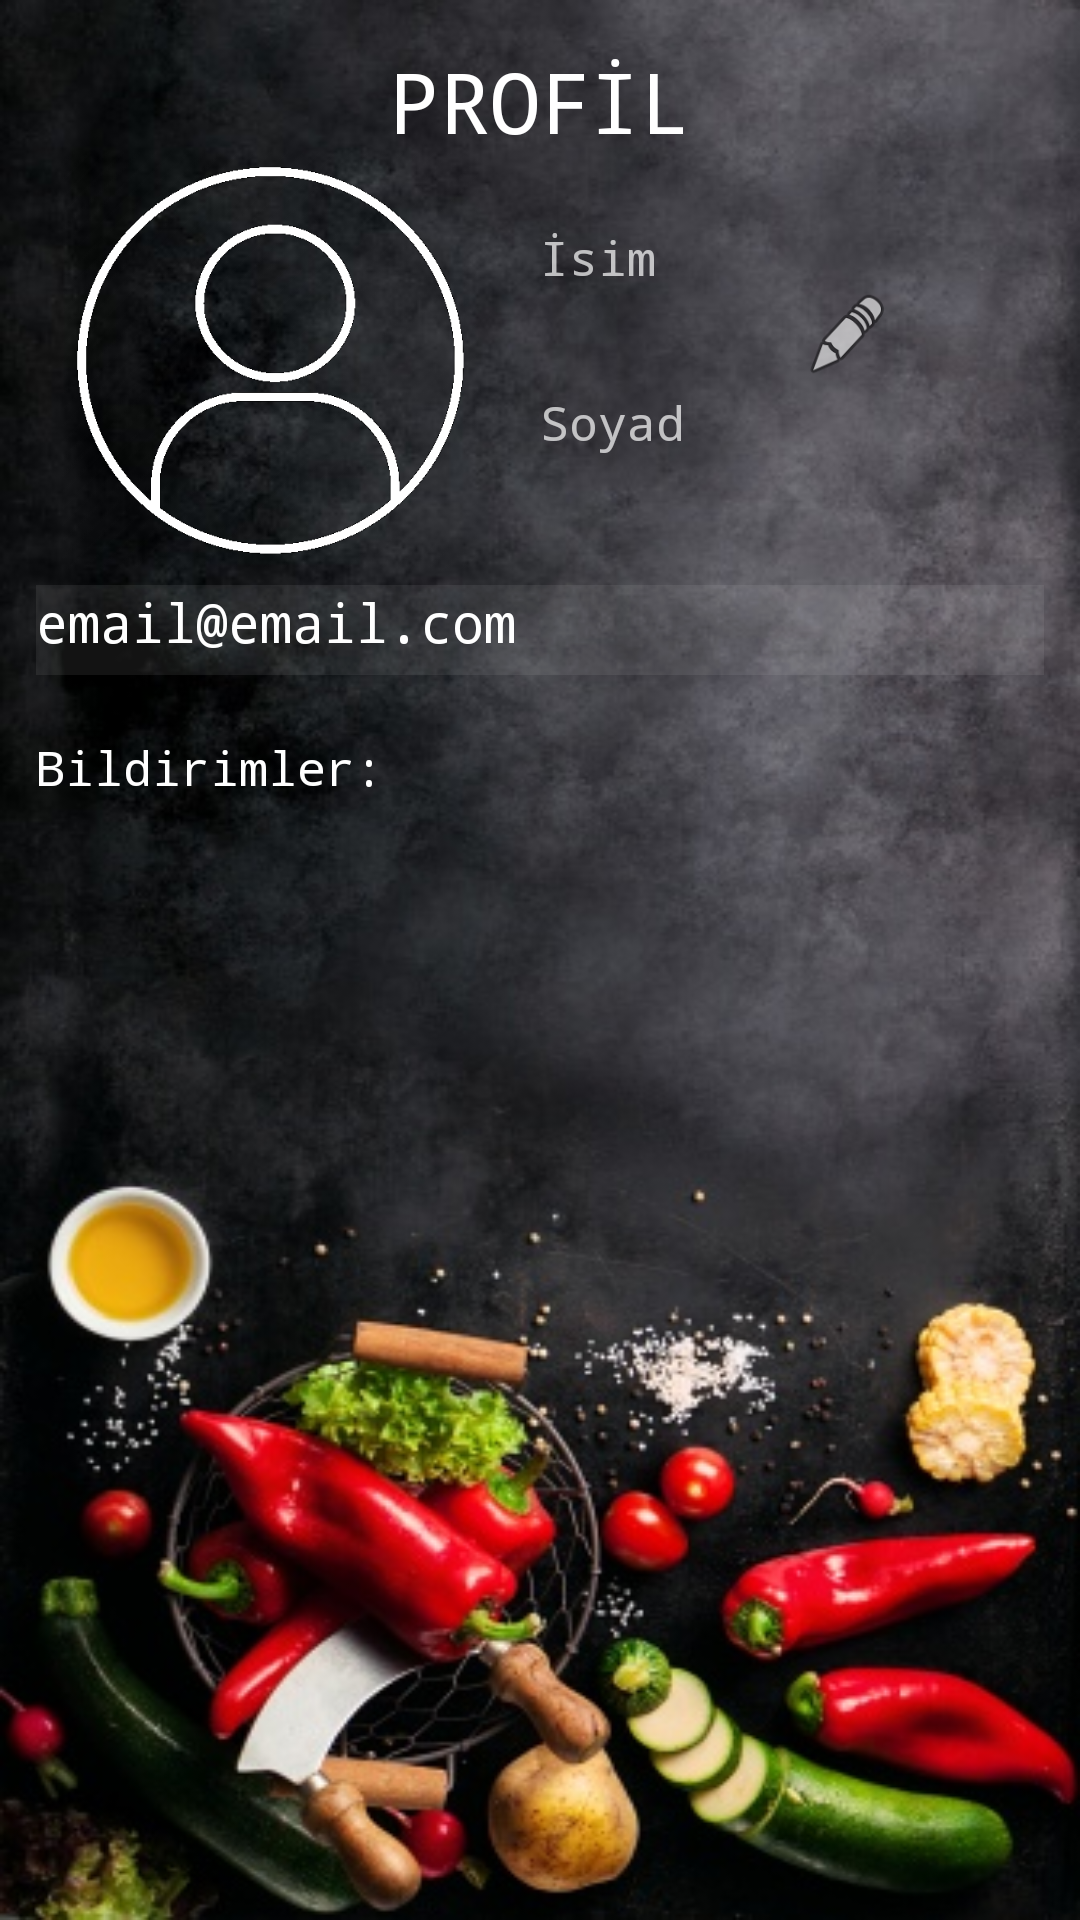

Screen size 1080×1920. Icon name, then its box in pixels as (x1, y1, x2, y2):
edit: (811, 295, 889, 373)
